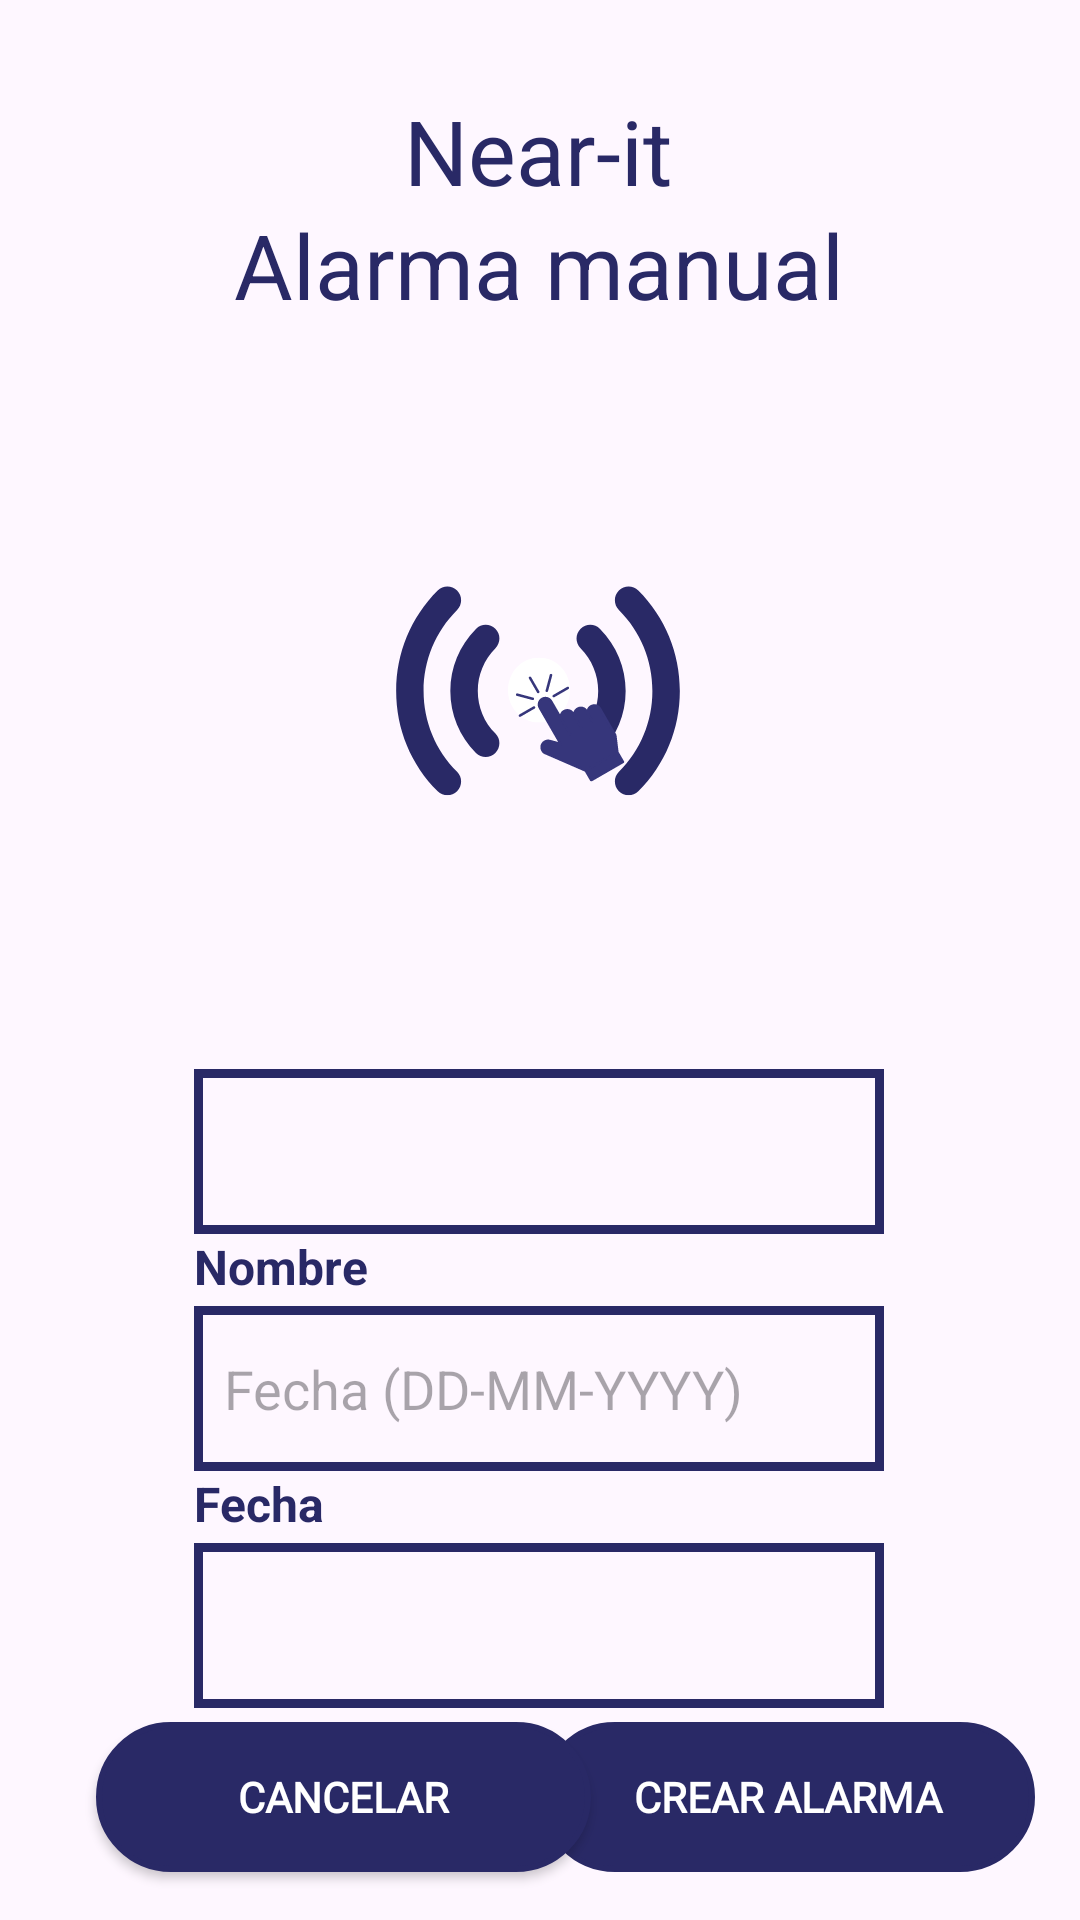

Icon click points for this 1080×1920 phone screenshot, format (x=x, y=y):
manualalarm: (x=538, y=690)
